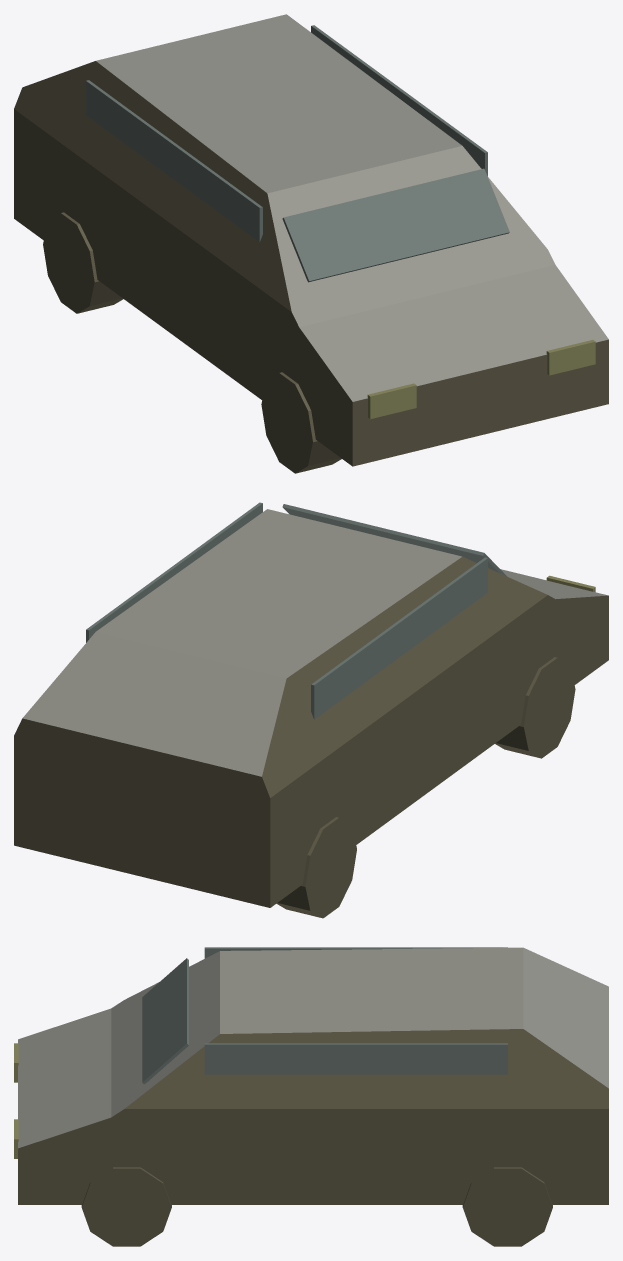
File: SM_CocheCivil_Utilitario_v0_LOD0.fbx
3 views of the same model, one above another, from view 1: azimuth 30°, elevation 25°; view 2: azimuth 150°, elevation 25°; view 3: azimuth 270°, elevation 25° (orthographic). The views are drawn at different scales.
Visible parts, largest first — view 1: SM_coche_civil_v0_LOD0; view 2: SM_coche_civil_v0_LOD0; view 3: SM_coche_civil_v0_LOD0.
Boxes of the visible parts, left/top/right/bottom form: SM_coche_civil_v0_LOD0: left=14, top=14, right=608, bottom=473; SM_coche_civil_v0_LOD0: left=14, top=502, right=608, bottom=918; SM_coche_civil_v0_LOD0: left=14, top=947, right=608, bottom=1246.
Bounding box in the file's own units: 1.7 × 1.44 × 3.82.
